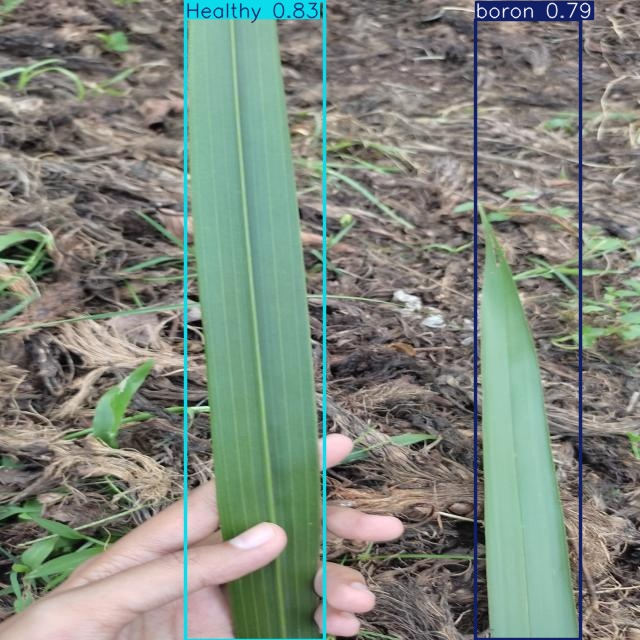Healthy: (185, 1, 324, 640)
nitrogen: (475, 20, 581, 640)
